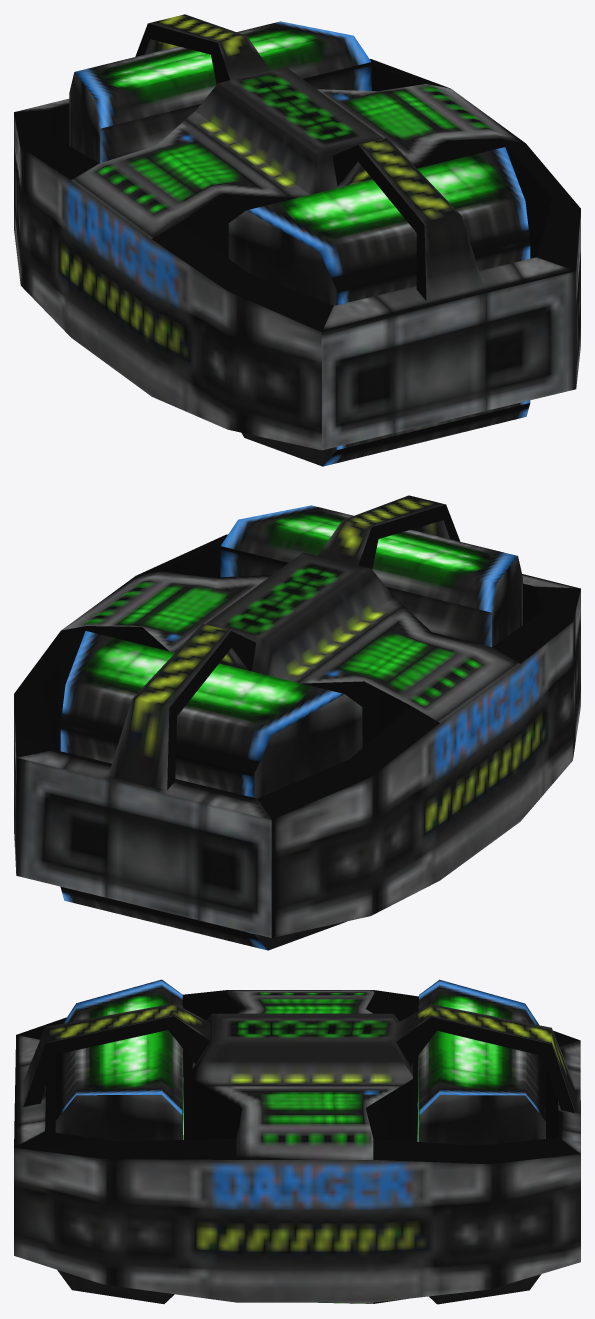
The model's file is detpack.glb.
3 views of the same model, one above another, from view 1: azimuth 30°, elevation 25°; view 2: azimuth 150°, elevation 25°; view 3: azimuth 270°, elevation 25° (orthographic). The views are drawn at different scales.
Visible parts, largest first — view 1: detpack; view 2: detpack; view 3: detpack.
Boxes of the visible parts, left/top/right/bottom form: detpack: left=14, top=14, right=580, bottom=466; detpack: left=14, top=495, right=580, bottom=950; detpack: left=14, top=979, right=580, bottom=1304.
Size of the model in its own units: 22.82 by 15.16 by 32.26.
2 materials, 2 textured.
